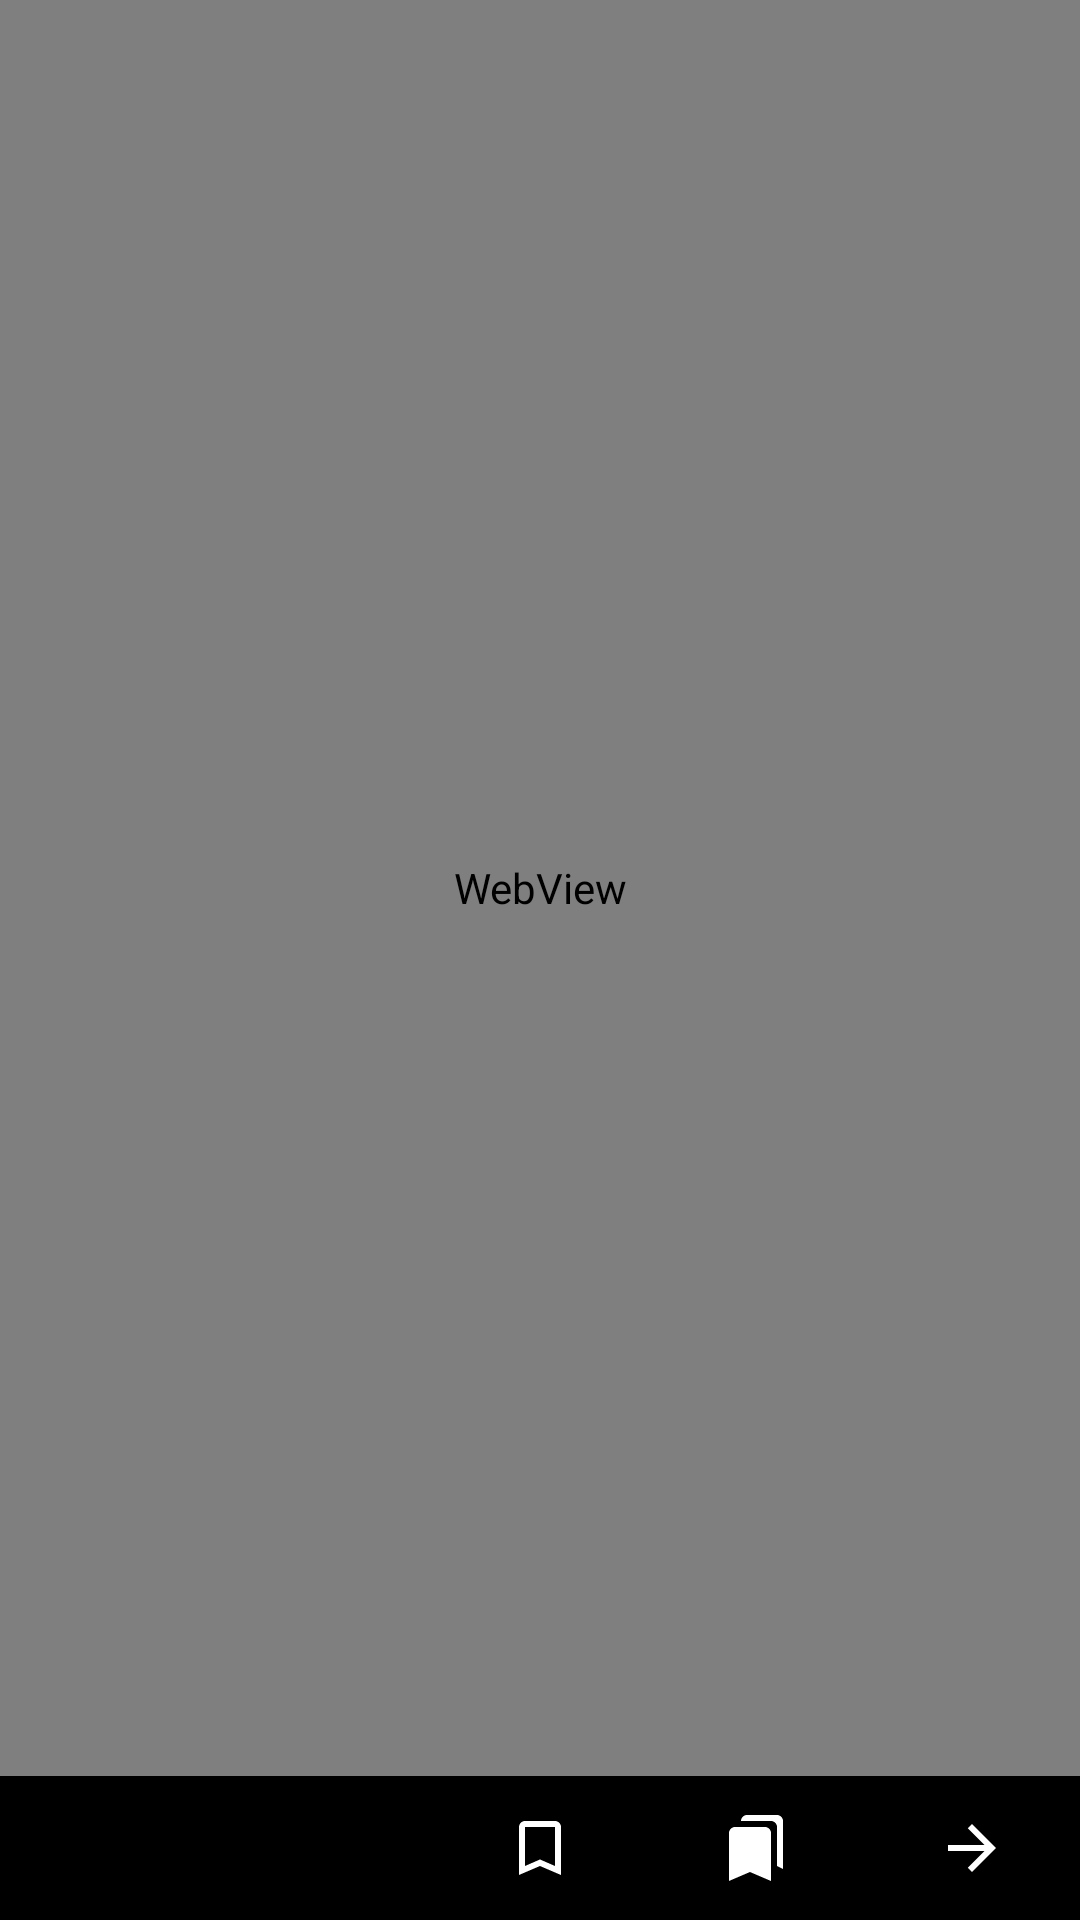

Where icons sit on this 1080×1920 app screen, as (x1, y1, x2, y2):
Add bookmark: (519, 1821, 561, 1875)
Bookmarks: (729, 1815, 783, 1881)
Forward: (948, 1824, 996, 1872)
